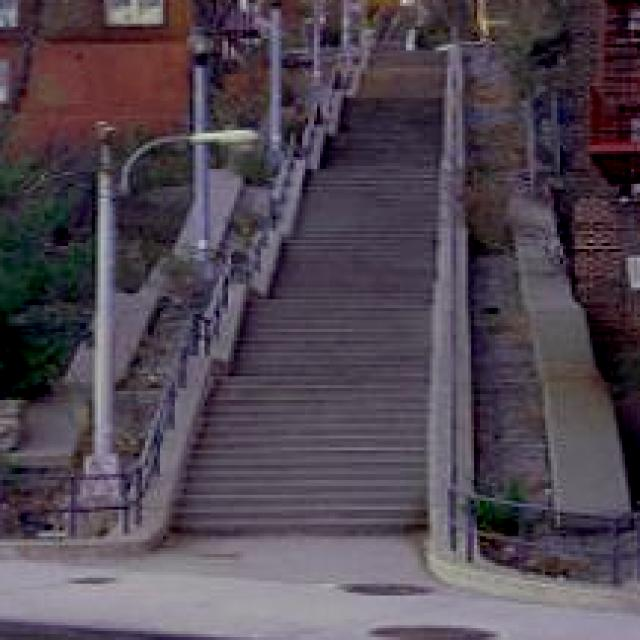upstair: (149, 265, 460, 537)
